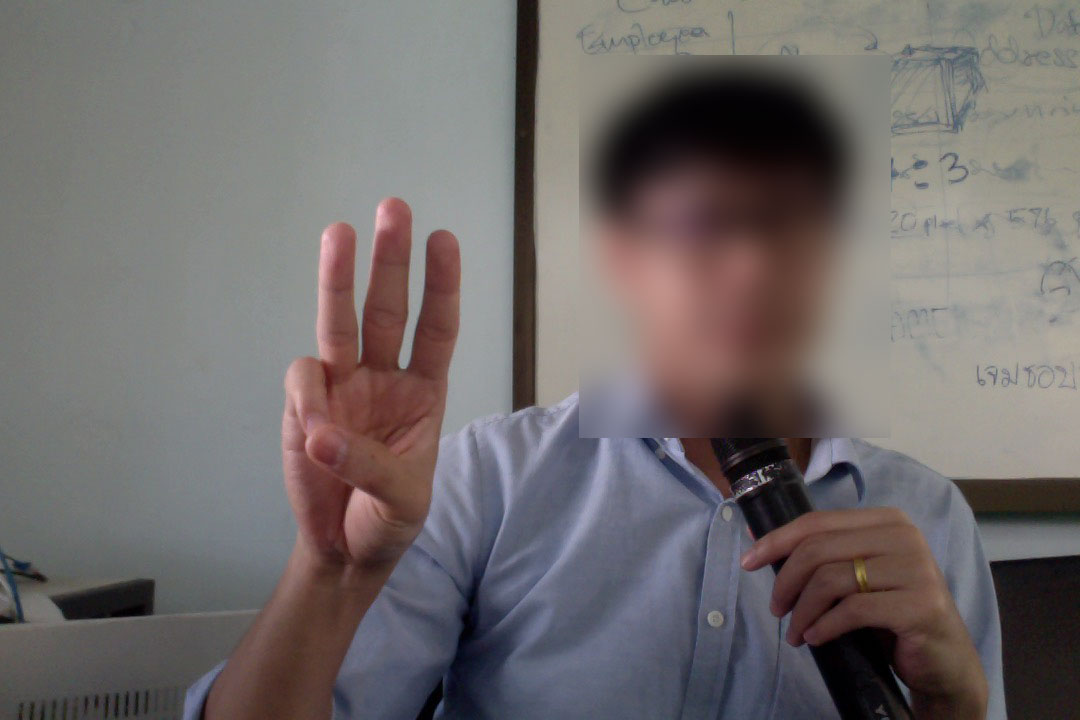wor: (262, 195, 467, 573)
